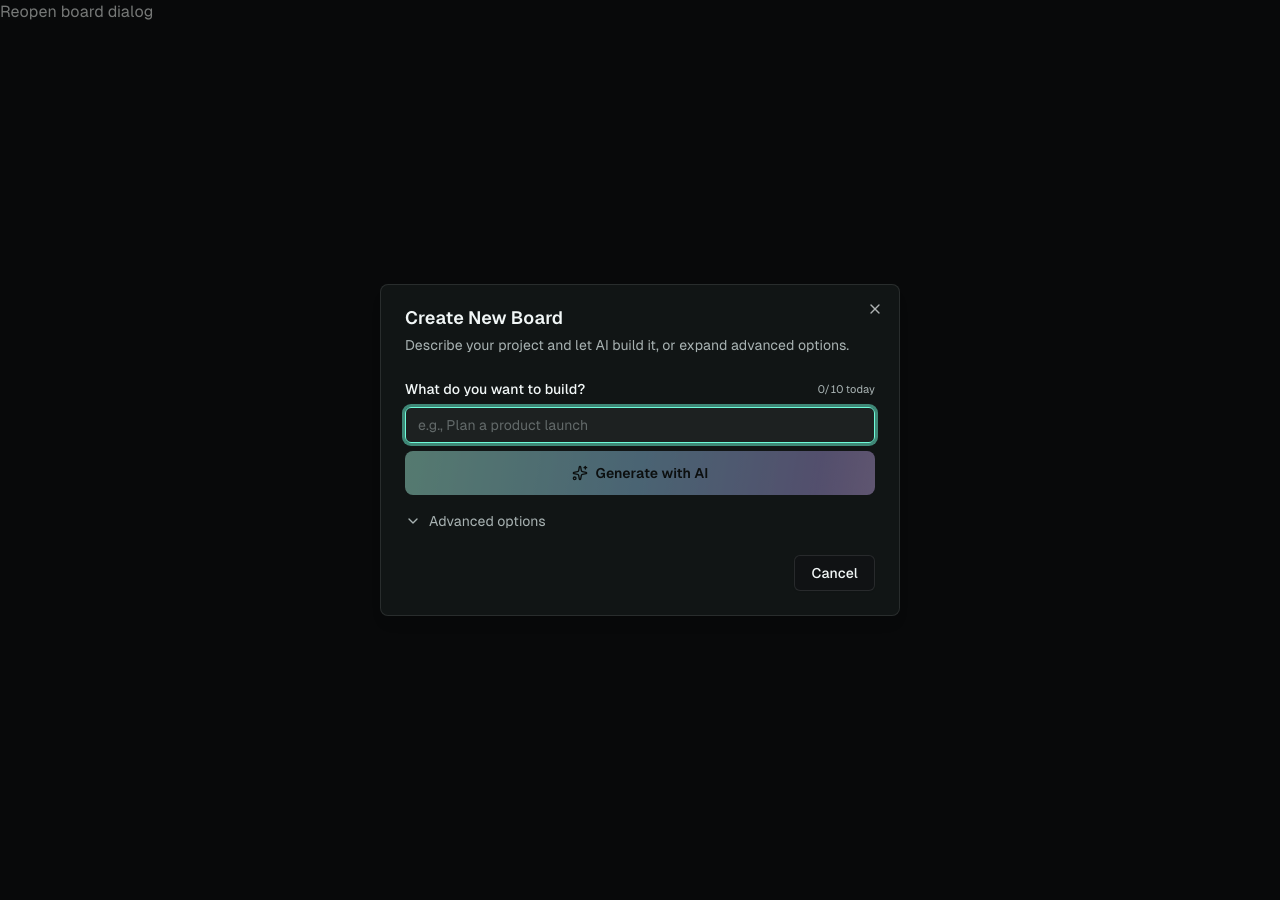
Test: board creation async lifecycle › creates the complete initial snapshot before closing, with every card, checklist item, and label
This screenshot has width=1280, height=900.
Type "Private old prompt" into the field labelled "What do you want to build?" at [640, 425], box [405,407,875,443]
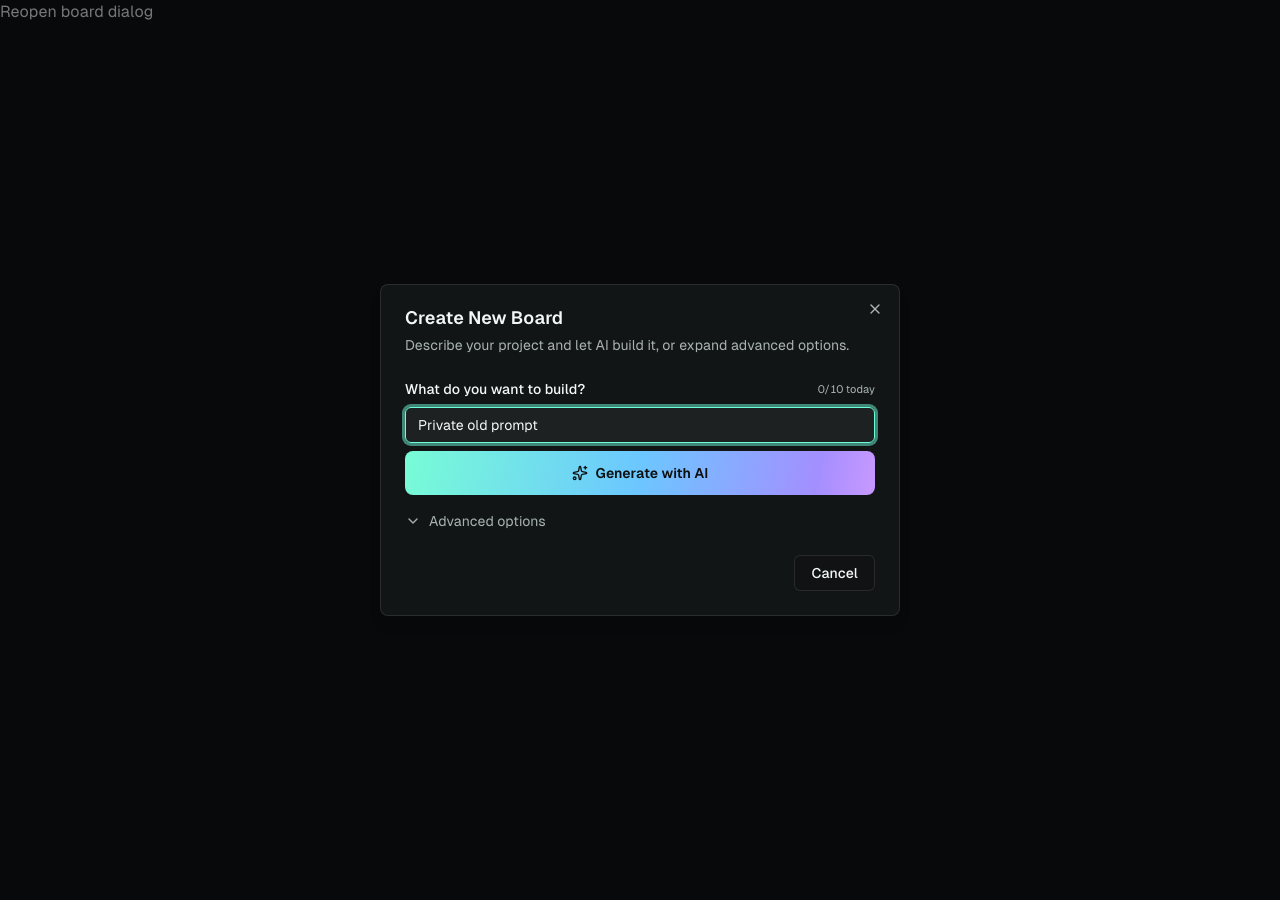
Click the button "Generate with AI" at [640, 473], box [405,451,875,495]
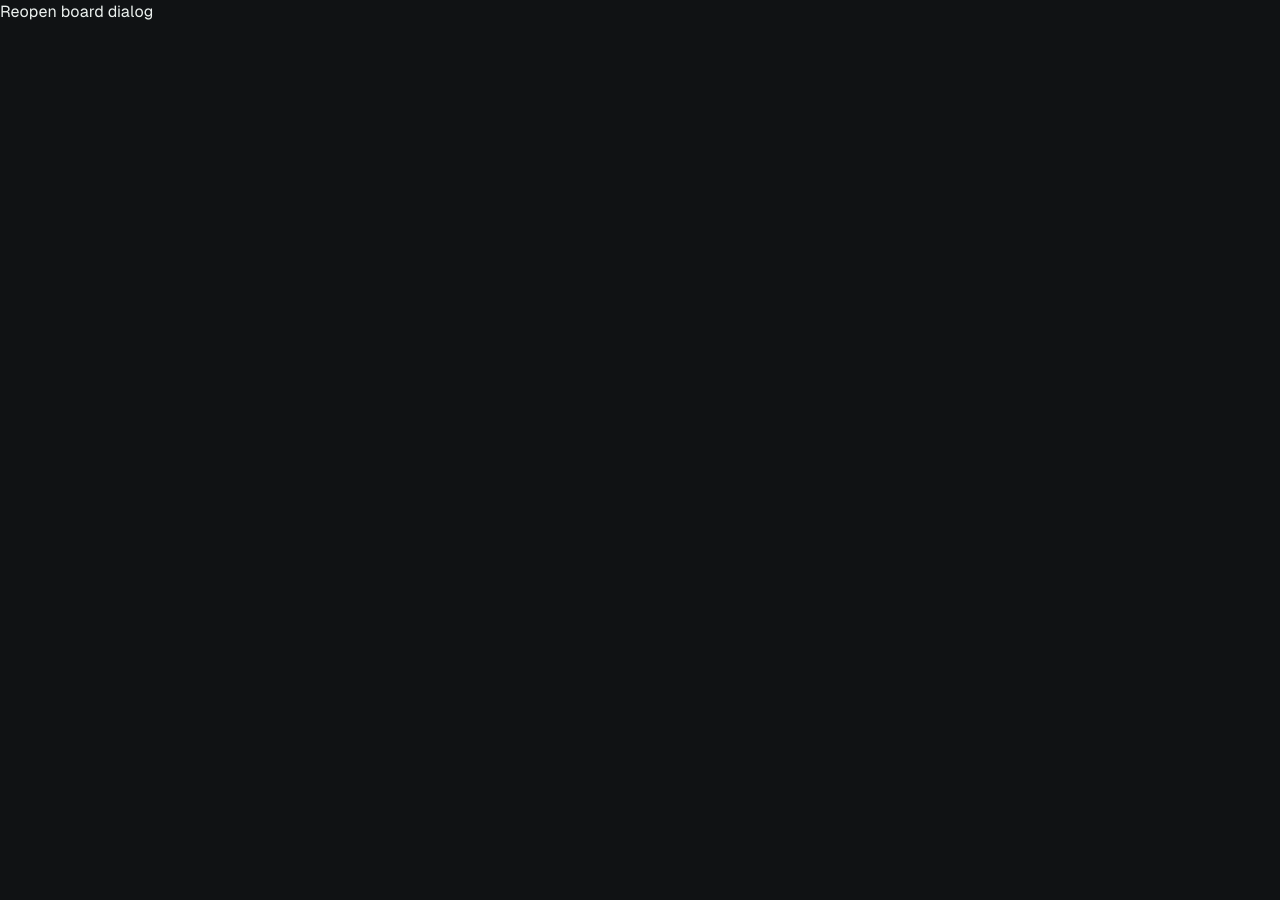
Check: the dialog is gone
